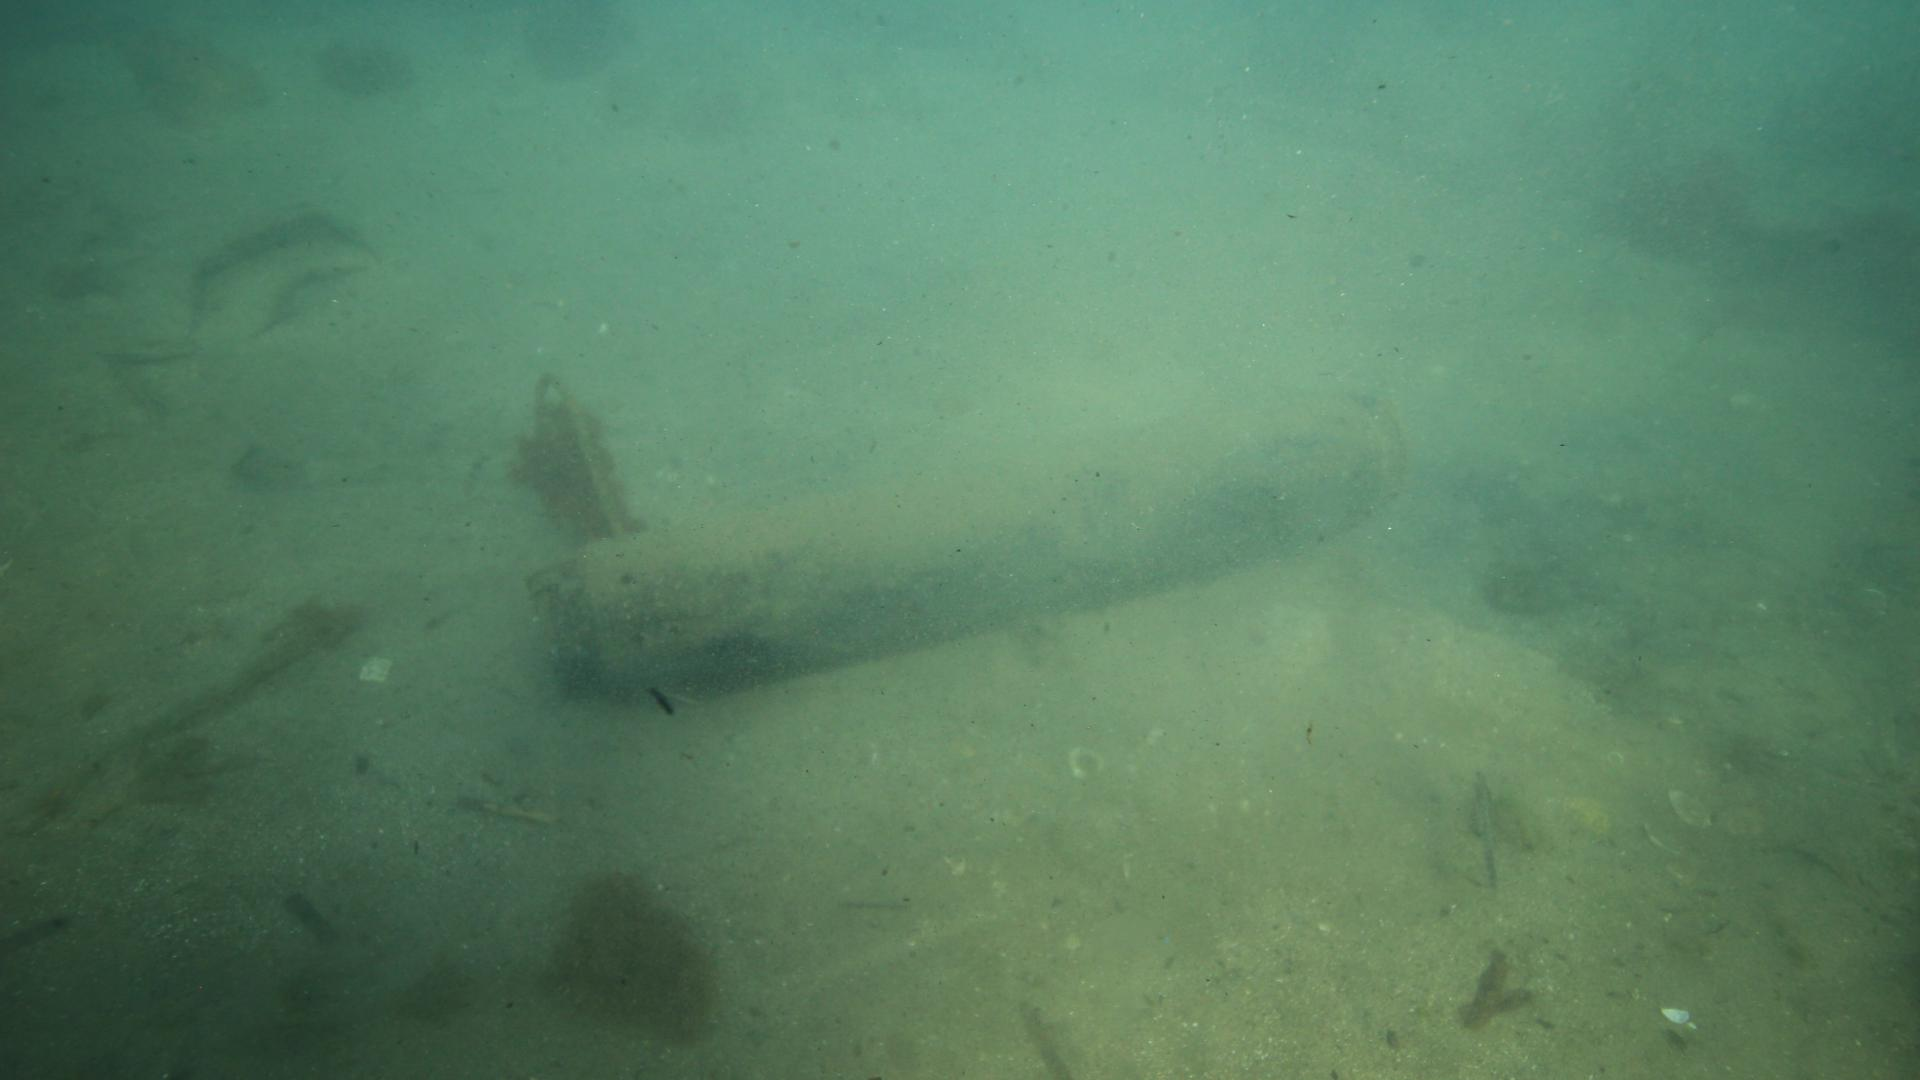eel fish trap: (522, 386, 1414, 712)
